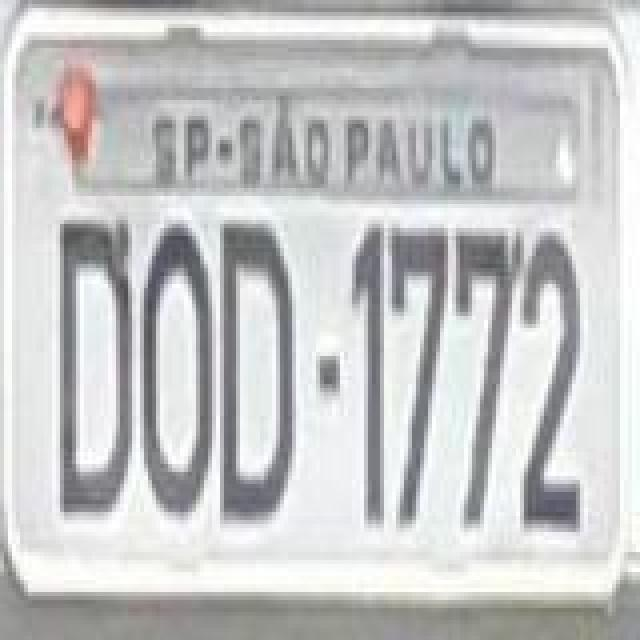1: (350, 220, 386, 532)
2: (520, 226, 584, 542)
7: (454, 218, 522, 534), (388, 222, 452, 538)
D: (216, 216, 296, 536), (58, 216, 134, 520)
O: (136, 214, 216, 522)
